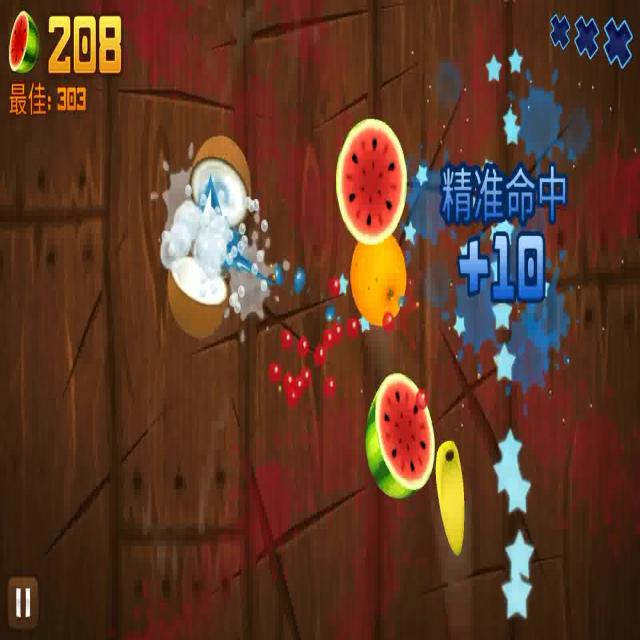fruit: (336, 119, 406, 241), (367, 372, 433, 498), (189, 134, 253, 226), (349, 232, 407, 328), (166, 256, 229, 338), (434, 442, 467, 556)
